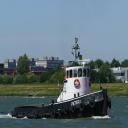tugboat: (12, 34, 113, 122)
